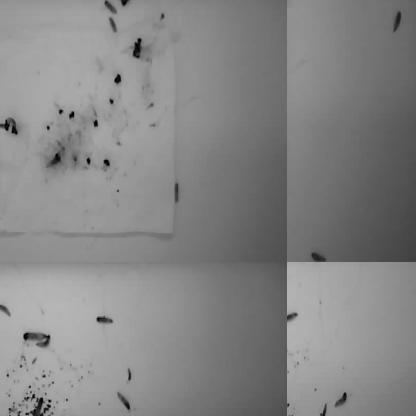PtecticusTenebrifer: (116, 388, 132, 412), (24, 331, 48, 342), (46, 154, 63, 169), (334, 391, 349, 408), (102, 0, 118, 15), (96, 314, 114, 326), (287, 311, 296, 335), (394, 12, 402, 36), (310, 251, 327, 262), (287, 318, 294, 343), (107, 19, 119, 33), (287, 311, 301, 322), (0, 303, 11, 315), (287, 402, 296, 416), (287, 281, 295, 296), (139, 0, 156, 7), (0, 397, 7, 413), (174, 182, 179, 204), (0, 55, 7, 67), (287, 83, 291, 104), (158, 262, 171, 268), (127, 367, 132, 382), (287, 376, 290, 401), (287, 316, 290, 340), (287, 352, 294, 362), (0, 303, 3, 325), (287, 0, 294, 8), (342, 262, 349, 270), (287, 0, 293, 9), (287, 0, 294, 7), (0, 386, 2, 408), (287, 329, 289, 351), (287, 0, 293, 7), (287, 262, 294, 267), (0, 0, 8, 4), (0, 262, 5, 268), (287, 0, 293, 4)
